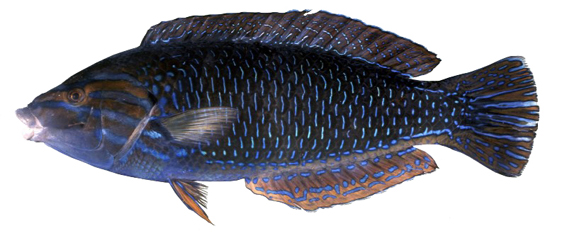fish: (15, 10, 539, 225)
